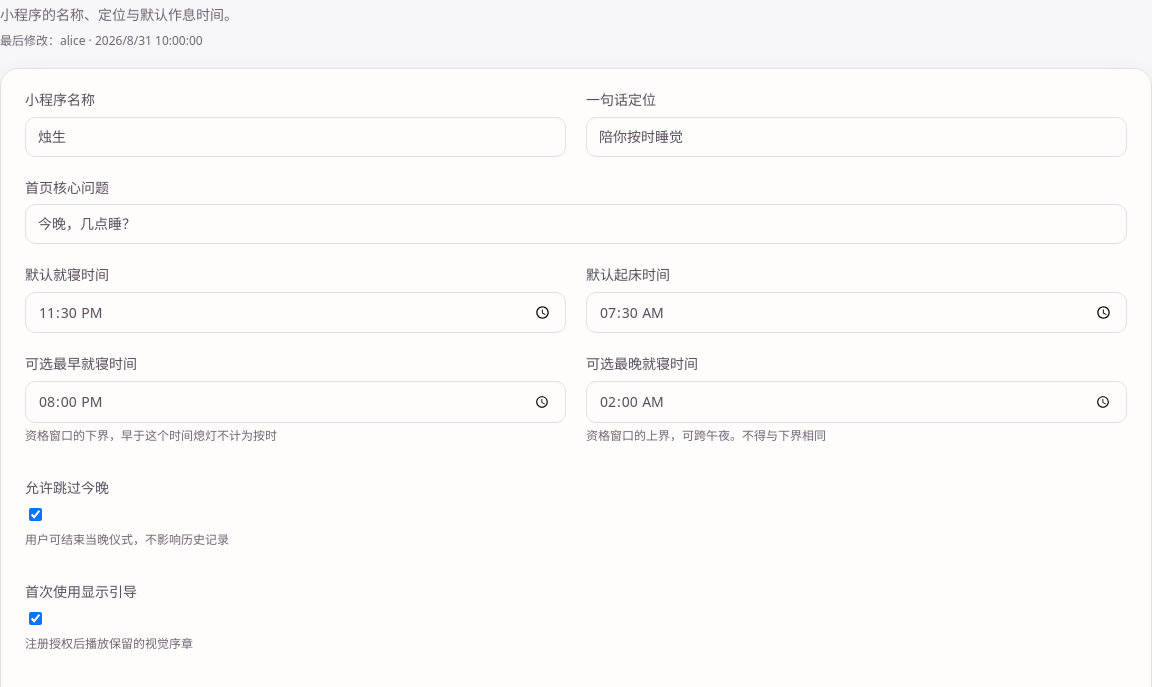
Test: 基础设置页 › 确认后才真正保存
Type "x" into the field labelled "一句话定位" at (856, 137), box [586, 117, 1127, 157]
(page scrolled)
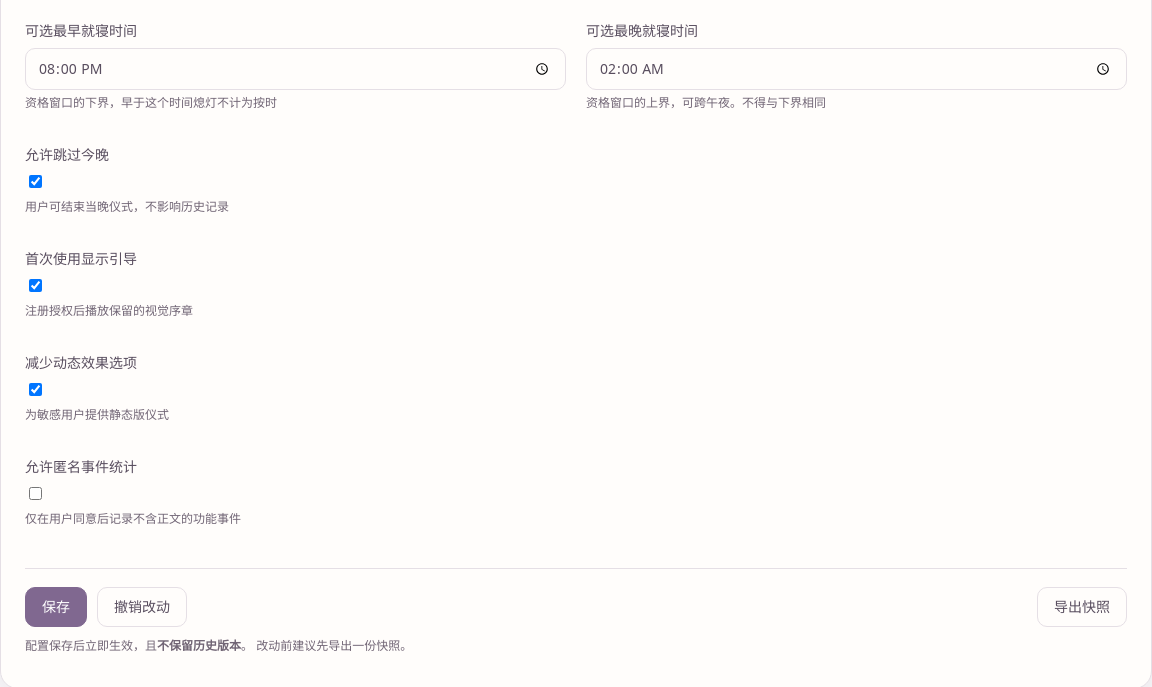
Click the button "保存" at (56, 607), box [25, 587, 87, 627]
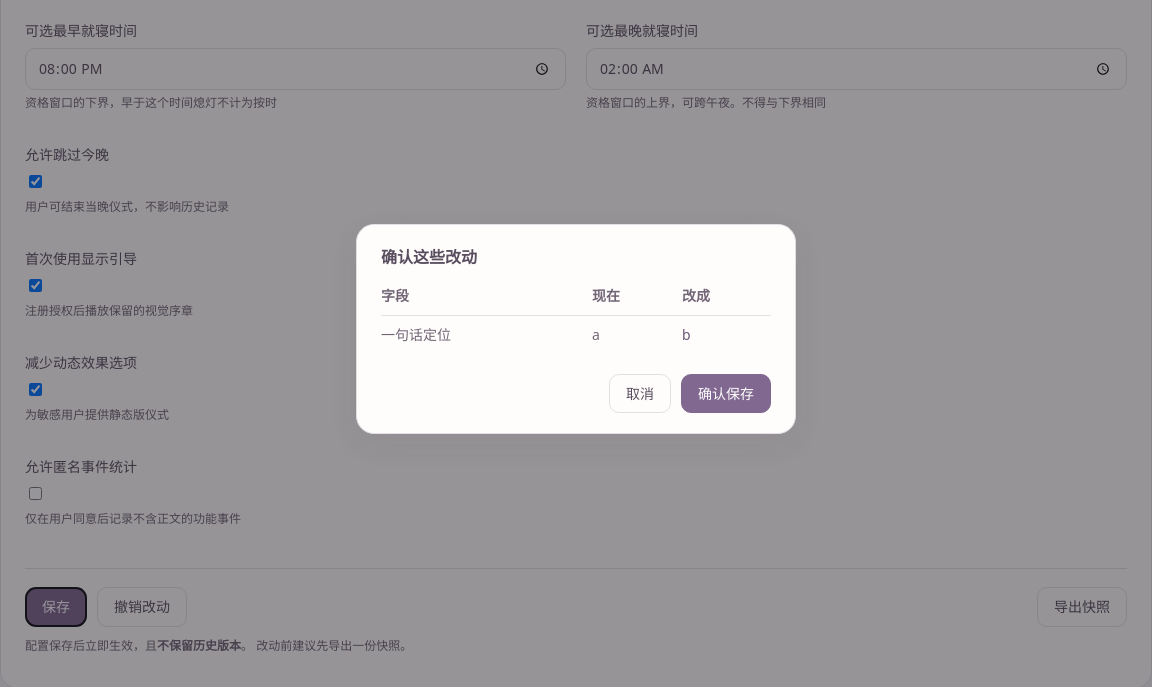
Now the dialog is shown, box [356, 224, 796, 434]
Click the button "确认保存" at (726, 394), box [681, 374, 771, 413]
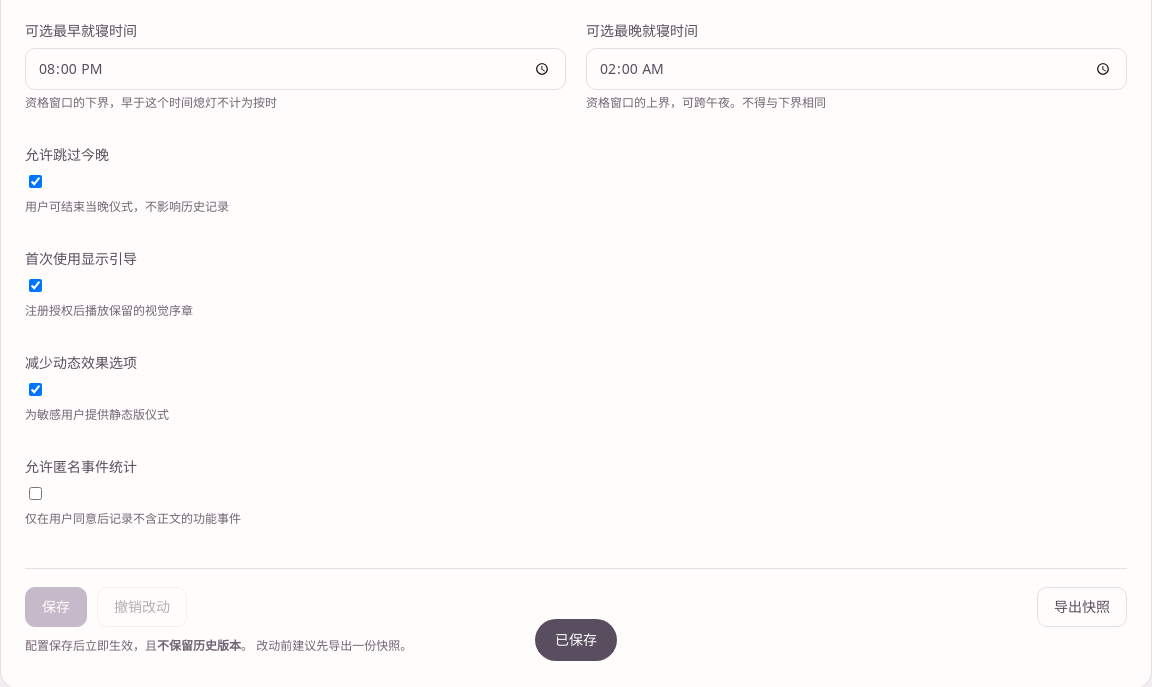
Now the message reads "已保存", box [555, 630, 597, 649]
